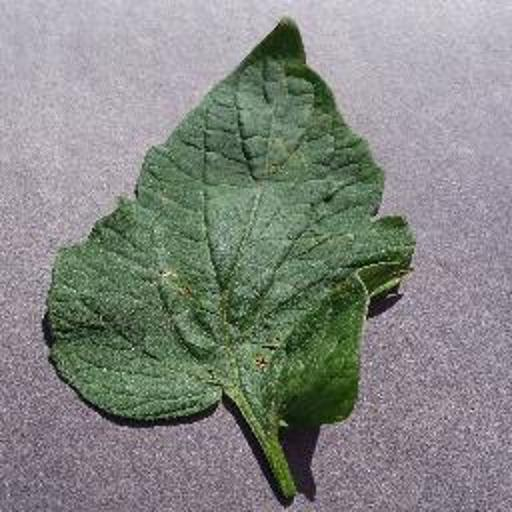Target Spot: (90, 67, 422, 480)
